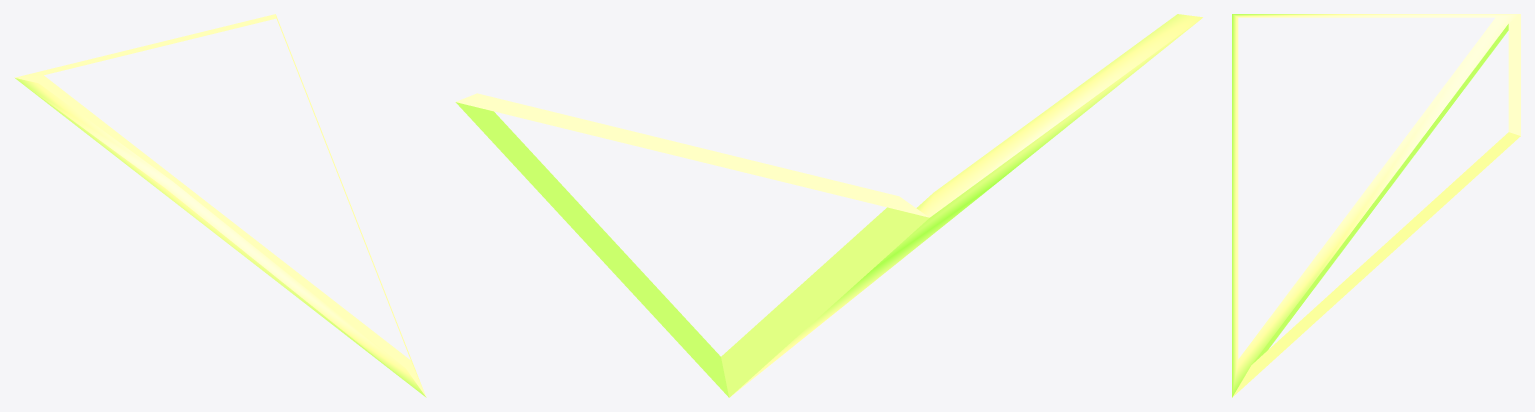
The model's file is r1c1_highlight_green.glb.
3 views of the same model, side by side, from view 1: azimuth 30°, elevation 25°; view 2: azimuth 150°, elevation 25°; view 3: azimuth 270°, elevation 25° (orthographic). The views are drawn at different scales.
Parts seen in each view (by area): view 1: r1c1_highlight; view 2: r1c1_highlight; view 3: r1c1_highlight.
Boxes of the visible parts, x1,y1,x2,y2 form: r1c1_highlight: (14,14,426,397); r1c1_highlight: (455,14,1202,397); r1c1_highlight: (1232,14,1520,397).
Bounding box in the file's own units: 2 × 2.01 × 2.
